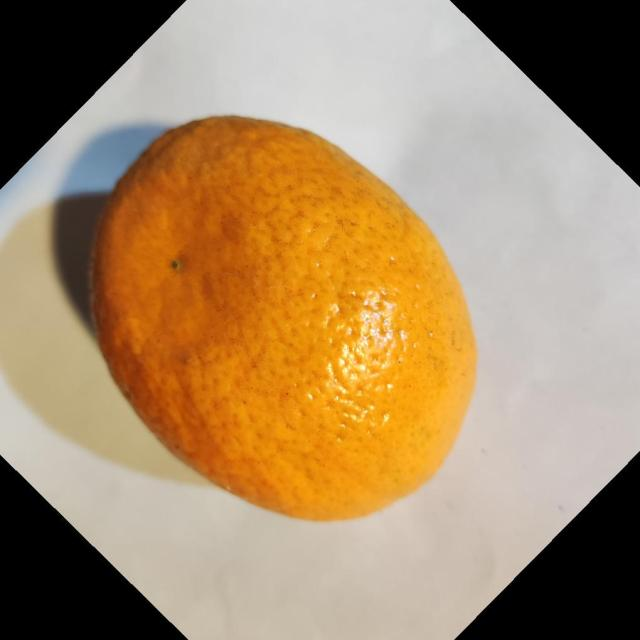fresh orange: (88, 113, 478, 522)
